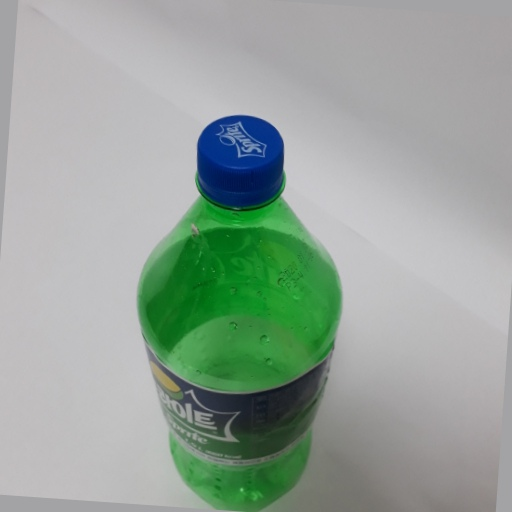Plastic_0: (136, 111, 346, 511)
